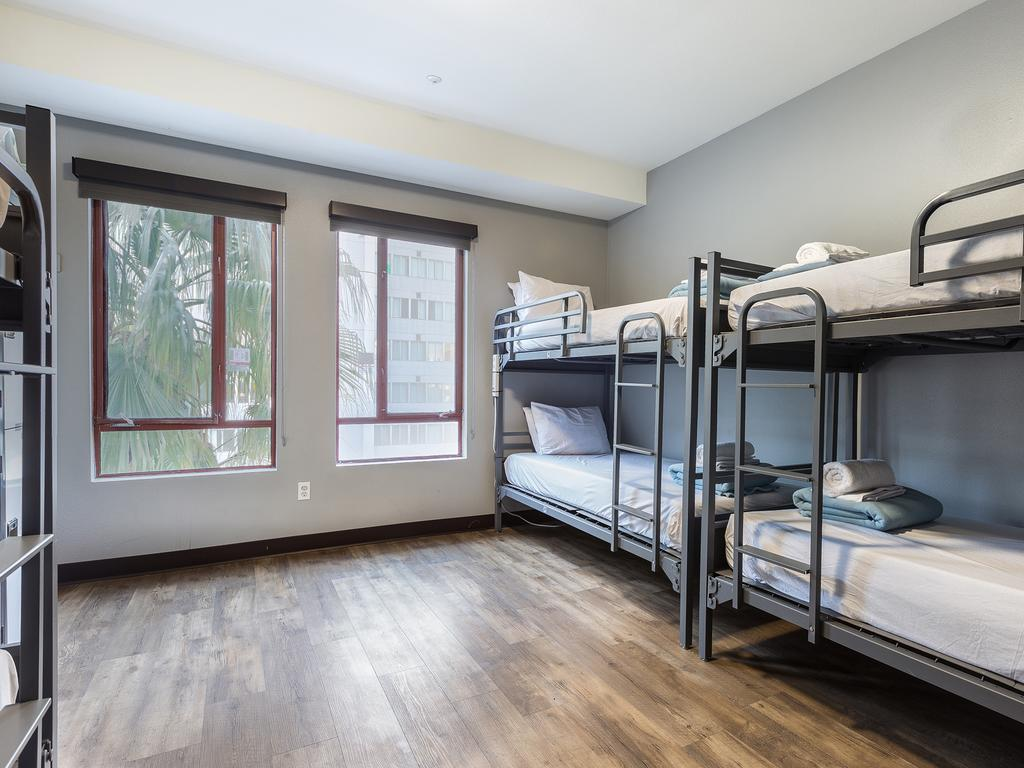bed: (438, 242, 713, 358)
